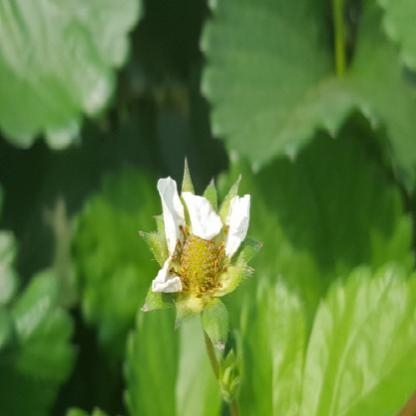Strawberry_Blossom_Blight: (166, 222, 232, 299)
